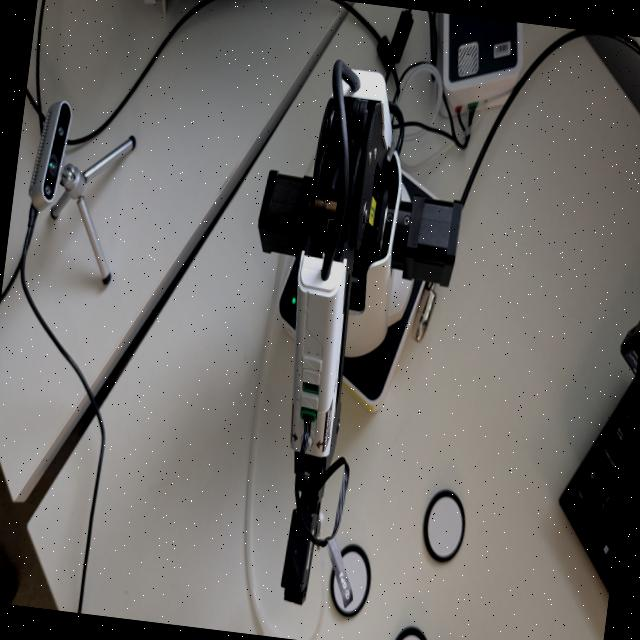Robot-end-effector-HF8z: (274, 504, 320, 609)
